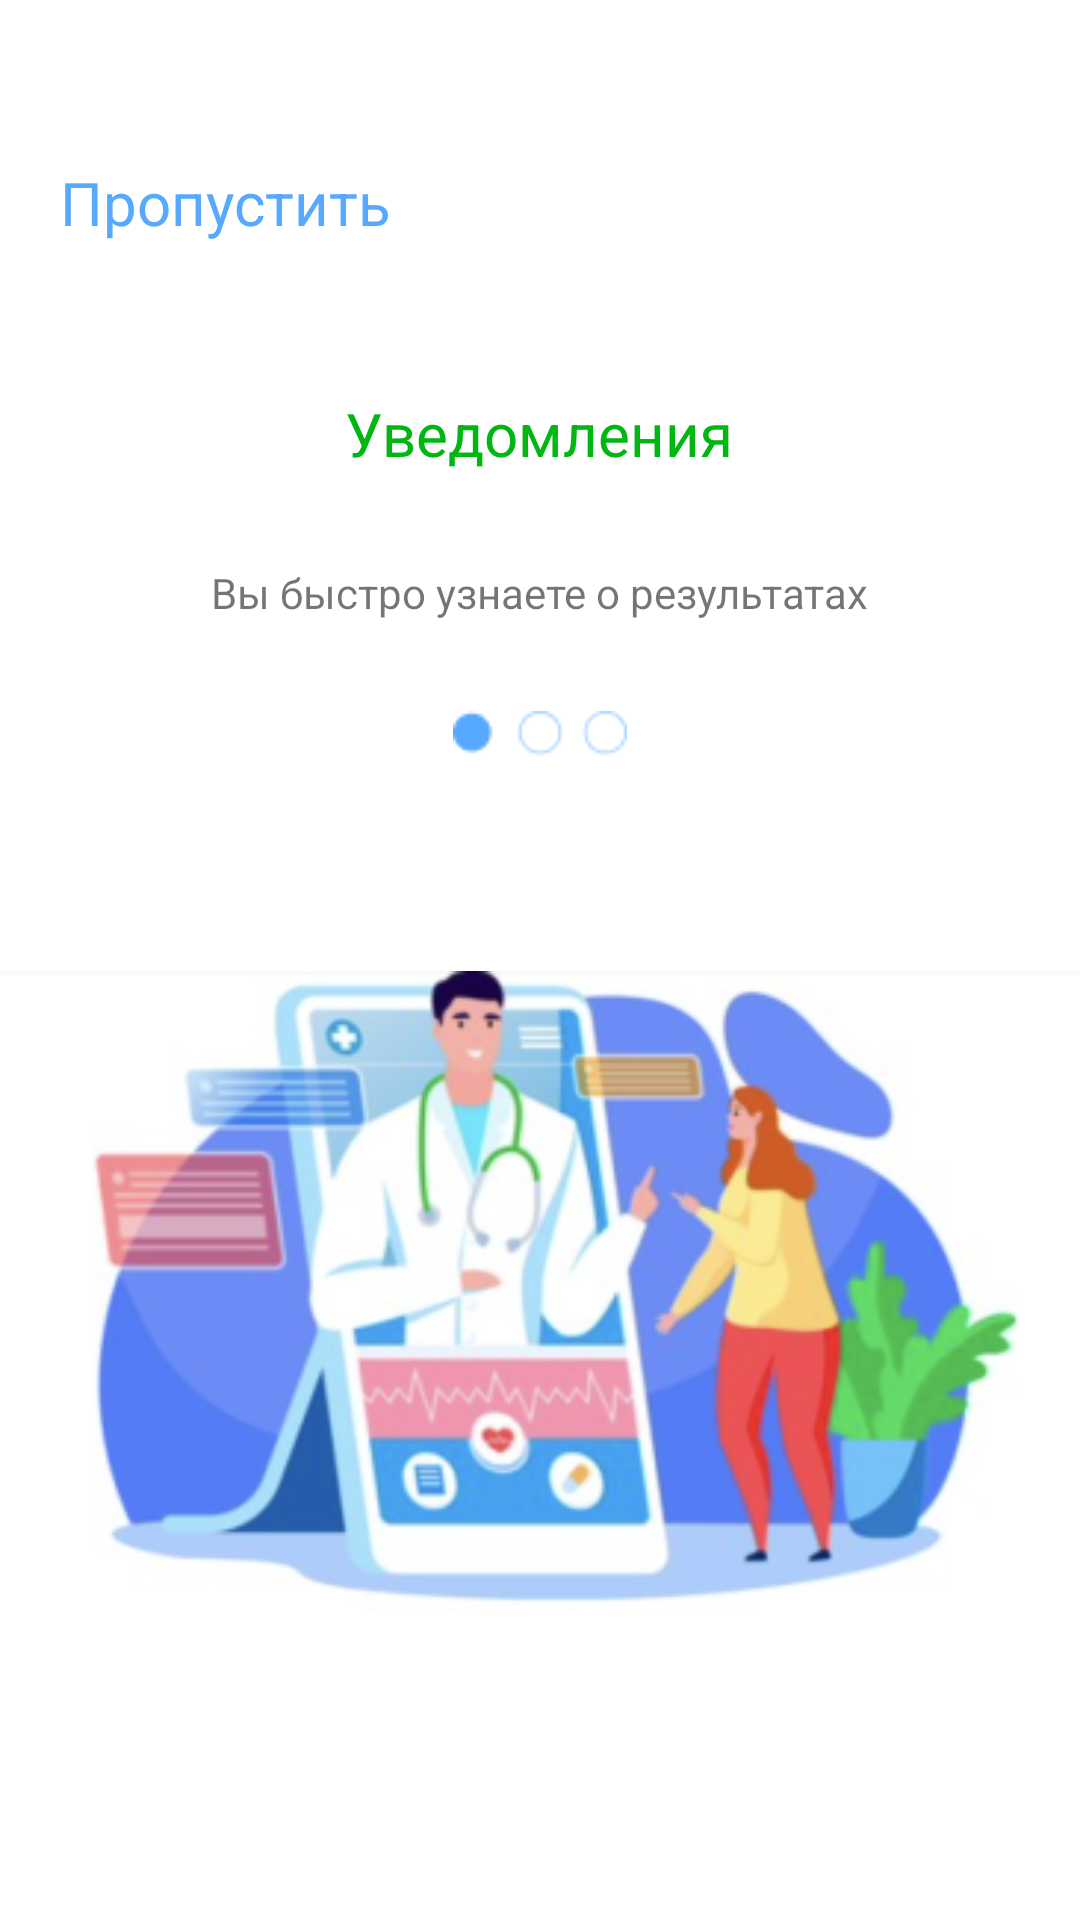

Point at icon controls on the screen. Image size 1080*1920, points as (x=x, y=y).
shariki: (x=540, y=732)
